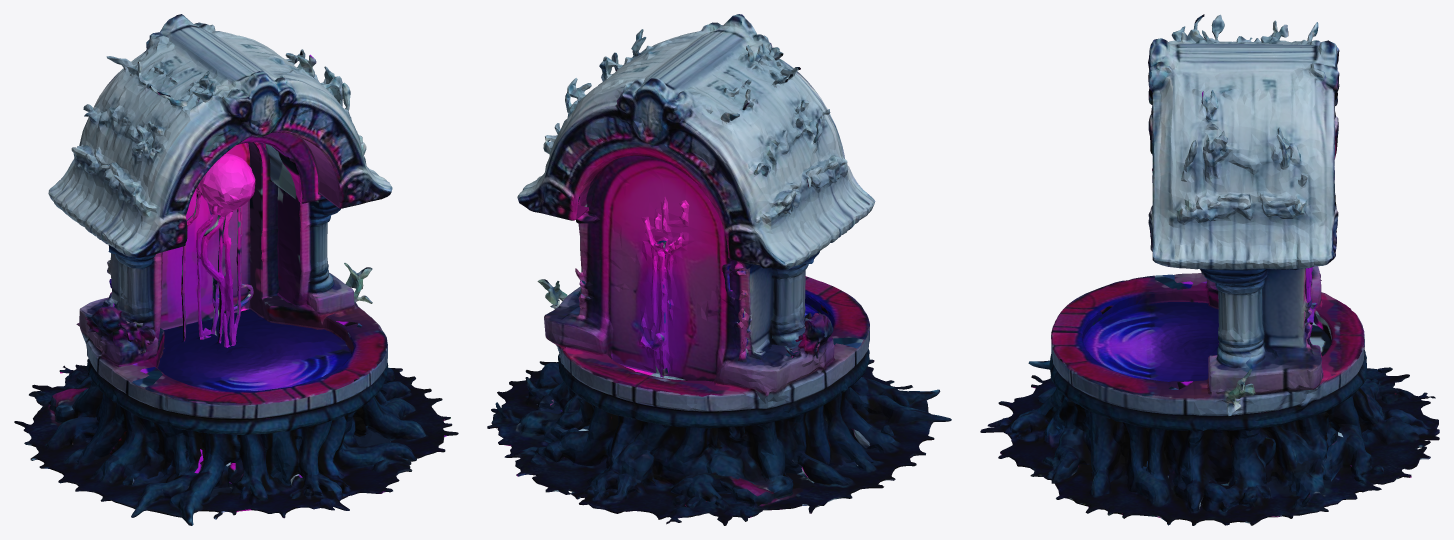
The model's file is growth-planter-b-generated-2026-05-17T18-07-41-545Z.glb.
3 renders of one model, left to right at view 1: azimuth 30°, elevation 25°; view 2: azimuth 150°, elevation 25°; view 3: azimuth 270°, elevation 25°, orthographic. The views are drawn at different scales.
Parts seen in each view (by area): view 1: temp_mesh.ply; view 2: temp_mesh.ply; view 3: temp_mesh.ply.
Boxes of the visible parts, bbox=[...] form: temp_mesh.ply: bbox=[14, 14, 458, 525]; temp_mesh.ply: bbox=[487, 14, 951, 525]; temp_mesh.ply: bbox=[980, 14, 1439, 525].
Bounding box in the file's own units: 1.93 × 1.86 × 1.97.
1 material, 1 textured.
